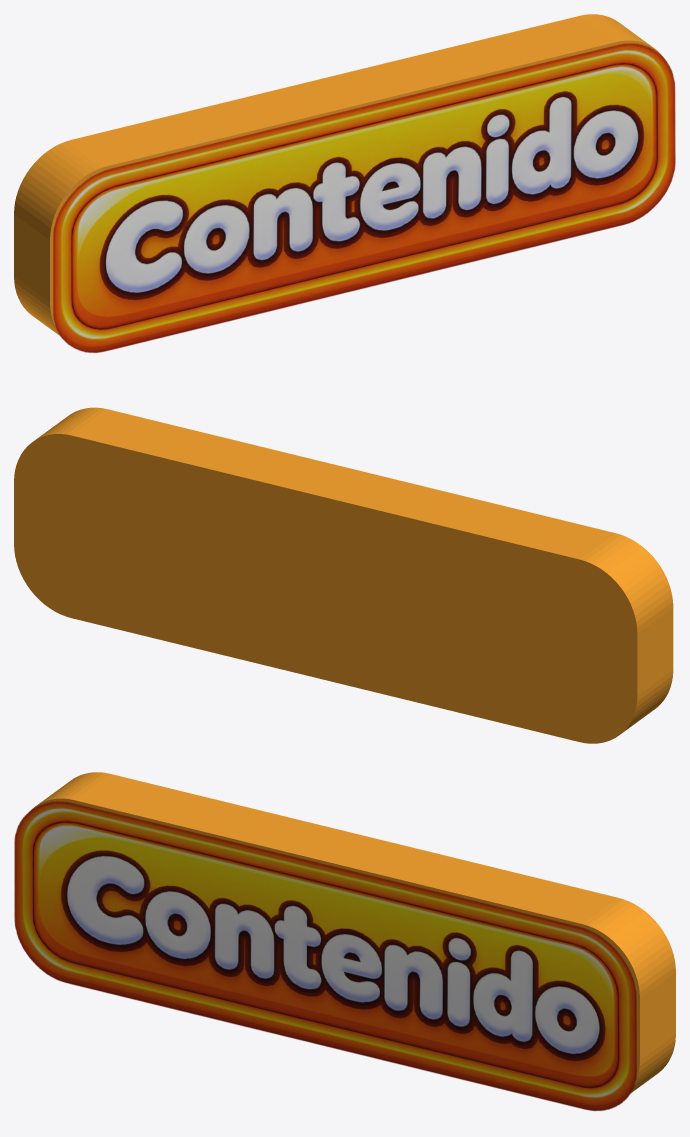
The model's file is Boton_Contenido.glb.
3 views of the same model, one above another, from view 1: azimuth 30°, elevation 25°; view 2: azimuth 150°, elevation 25°; view 3: azimuth 330°, elevation 25° (orthographic).
Visible parts, largest first — view 1: Texto_Contenido_Textura, Borde_Boton; view 2: Borde_Boton; view 3: Texto_Contenido_Textura, Borde_Boton.
Part boxes in pixels (x1,y1,x2,y2): Texto_Contenido_Textura: [53, 43, 675, 352]; Borde_Boton: [14, 14, 664, 336]; Borde_Boton: [14, 407, 673, 743]; Texto_Contenido_Textura: [14, 801, 636, 1110]; Borde_Boton: [28, 772, 675, 1093].
Bounding box in the file's own units: 0.3 × 0.084 × 0.0322.
3 materials, 1 textured.
